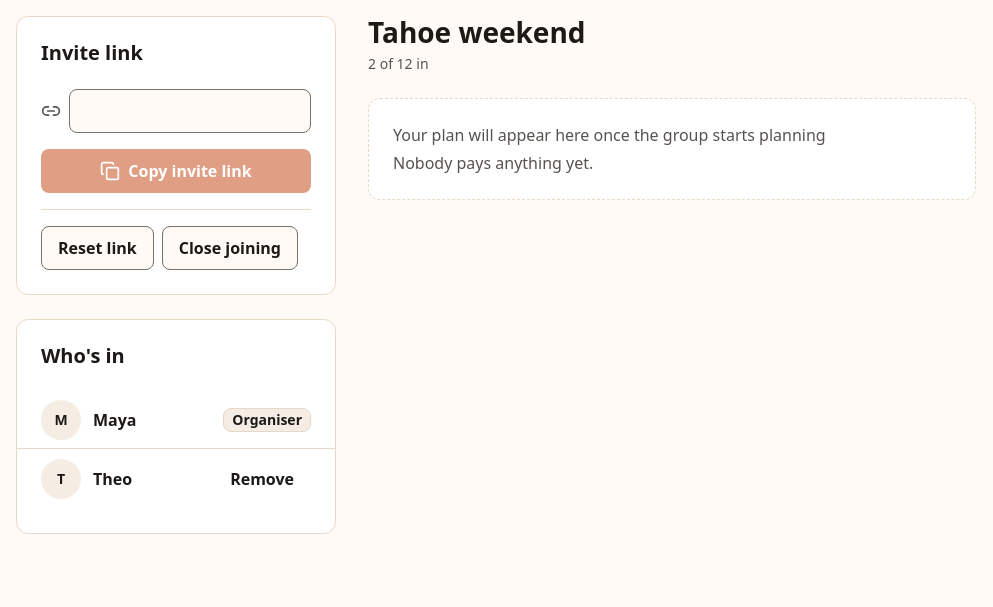
Test case: TripPage organiser invite card › keeps the old link when the organiser backs out of a reset
This screenshot has width=993, height=607.
Click the button "Reset link". click: (97, 248)
box: [41,226,154,270]
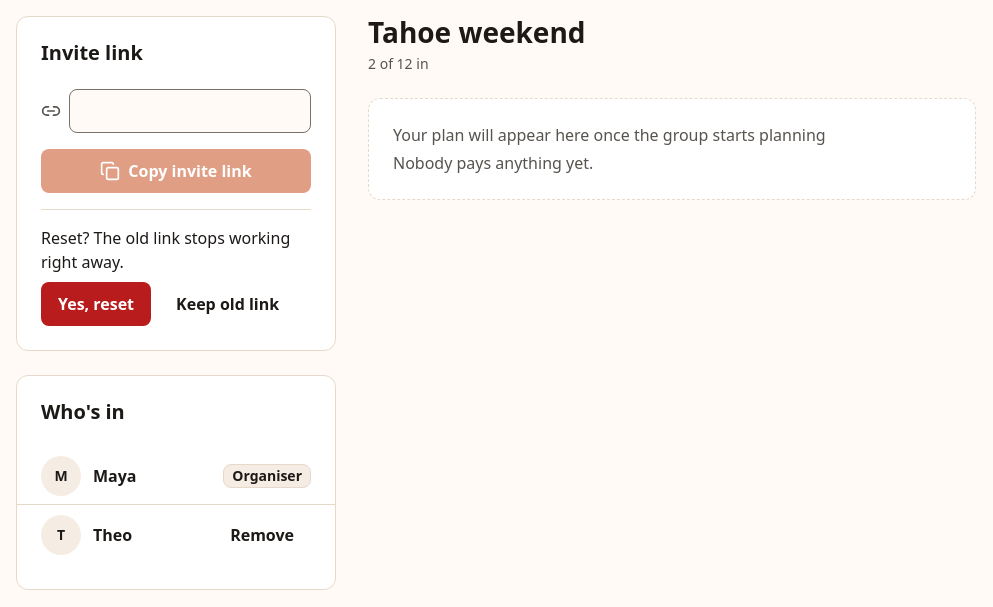
Click the button "Keep old link". click: (228, 304)
box: [159,282,296,326]
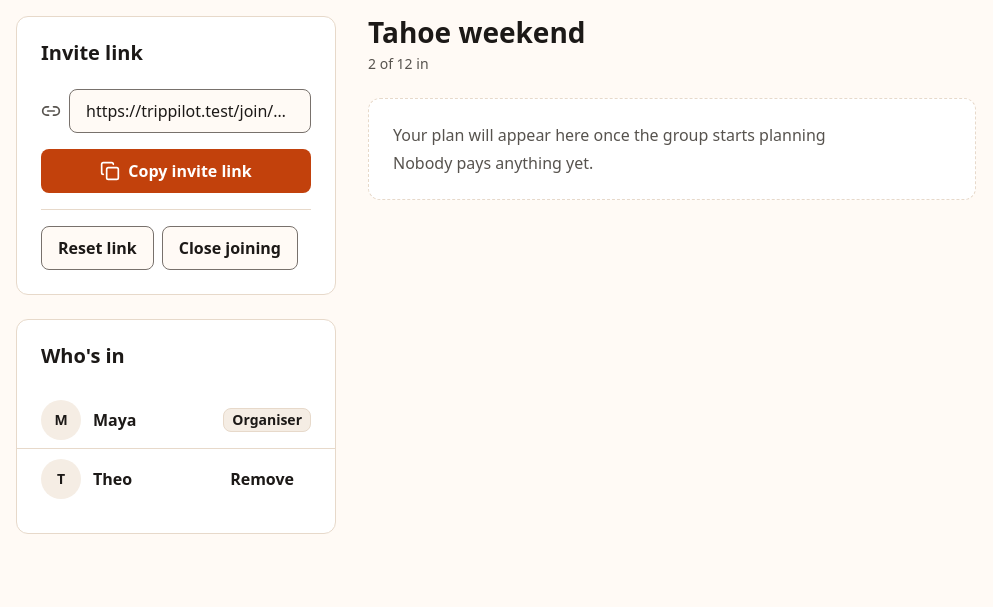
Now the button "Reset link" is shown, box [41,226,154,270]
